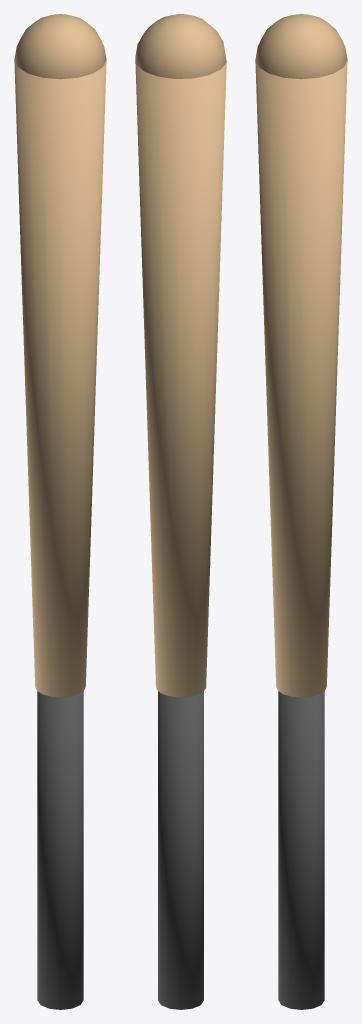
The model's file is bat.glb.
3 views of the same model, side by side, from view 1: azimuth 90°, elevation 25°; view 2: azimuth 150°, elevation 25°; view 3: azimuth 270°, elevation 25° (orthographic).
Visible parts, largest first — view 1: bat; view 2: bat; view 3: bat.
Boxes of the visible parts, bbox=[...] form: bat: bbox=[14, 14, 106, 1009]; bat: bbox=[135, 14, 226, 1009]; bat: bbox=[255, 14, 347, 1009].
Bounding box in the file's own units: 0.08 × 0.94 × 0.08.
